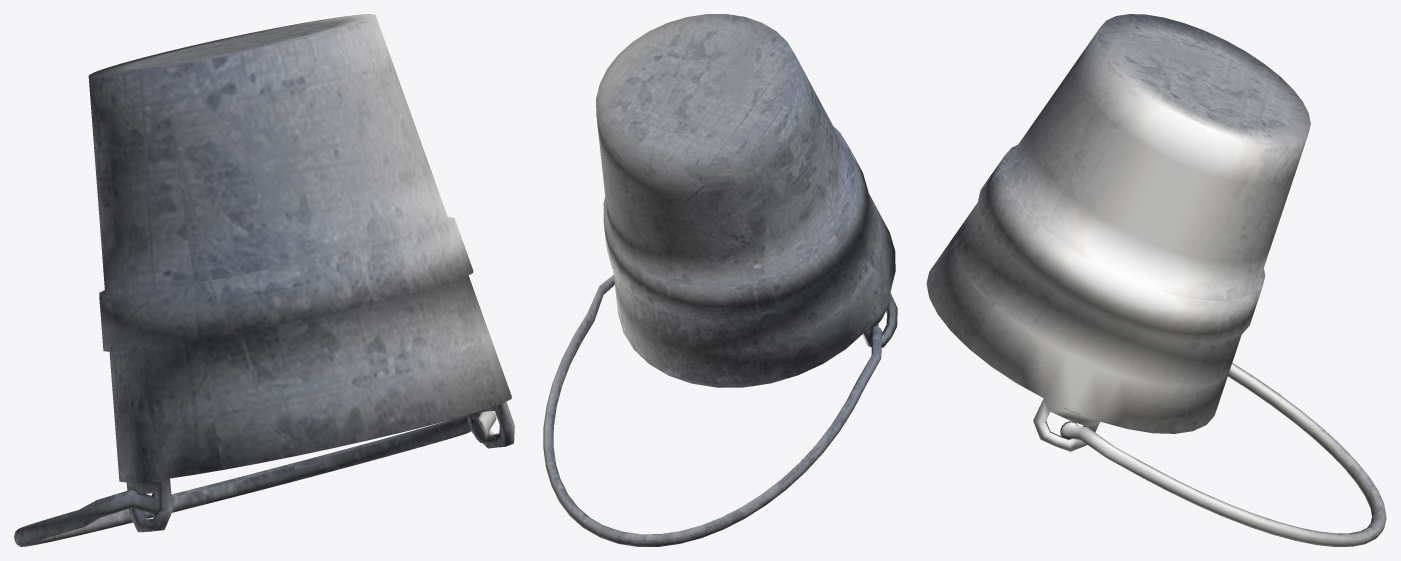
File: SM_BucketHat_00.fbx
3 renders of one model, left to right at view 1: azimuth 30°, elevation 25°; view 2: azimuth 150°, elevation 25°; view 3: azimuth 270°, elevation 25°, orthographic. The views are drawn at different scales.
Parts seen in each view (by area): view 1: SM_BucketHat_00; view 2: SM_BucketHat_00; view 3: SM_BucketHat_00.
Part boxes in pixels (<box>): SM_BucketHat_00: <box>14,14,514,546</box>; SM_BucketHat_00: <box>543,14,897,546</box>; SM_BucketHat_00: <box>926,14,1386,546</box>.
Size of the model in its own units: 47.09 by 69.49 by 59.41.
